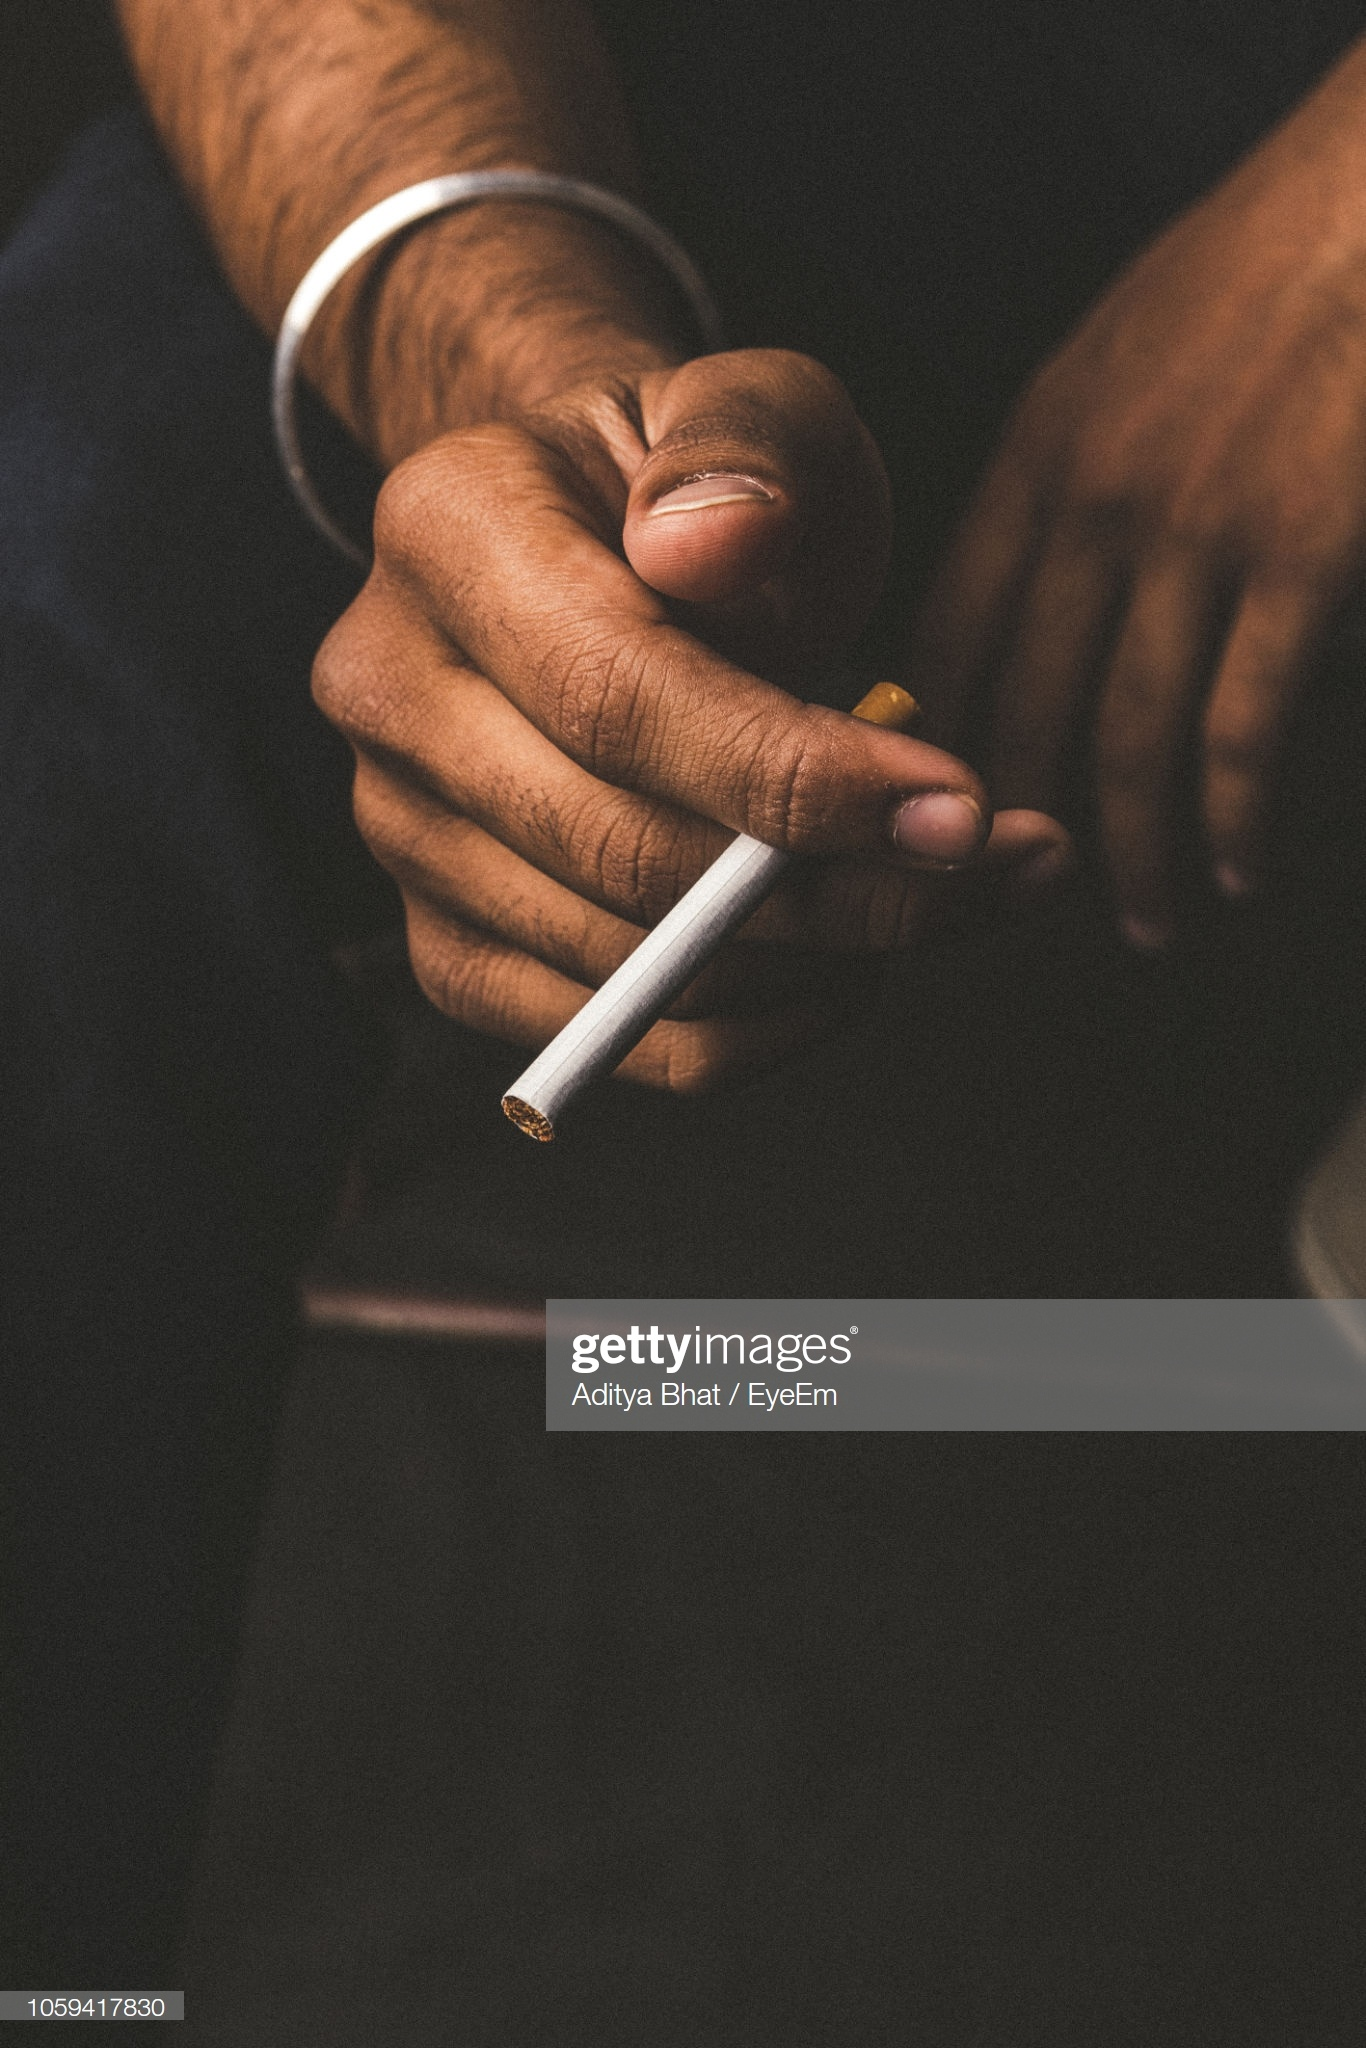sigaretta: (518, 683, 912, 1147)
